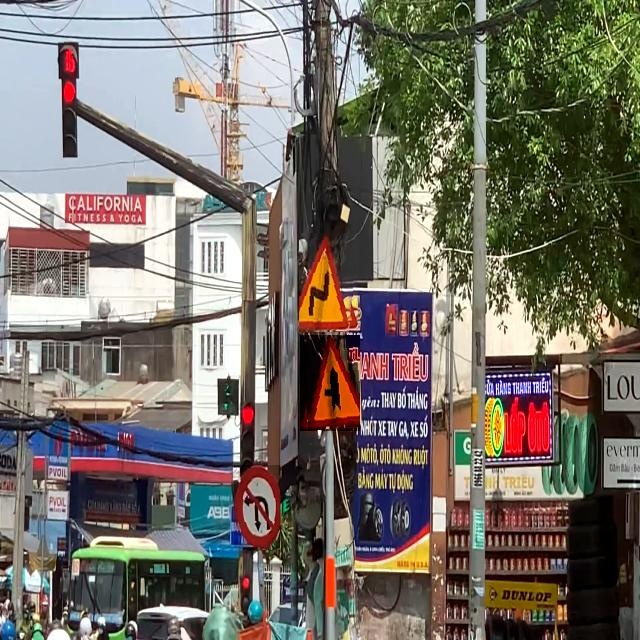bien_cam: (300, 233, 360, 332), (300, 335, 360, 431), (234, 465, 280, 551)
